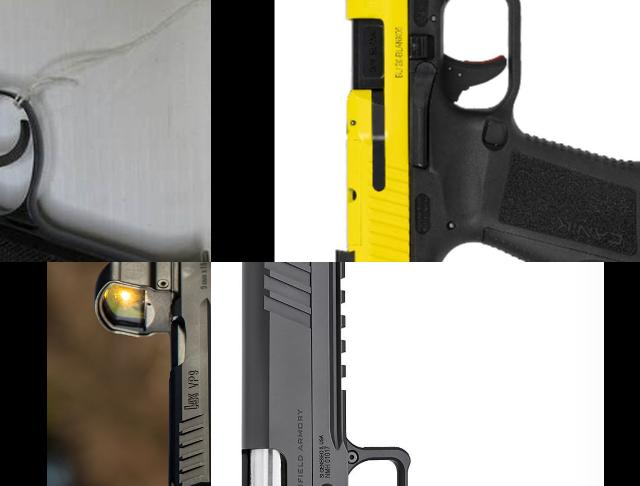handgun: (211, 262, 597, 486), (325, 0, 640, 262), (0, 0, 211, 262), (88, 262, 211, 486)
